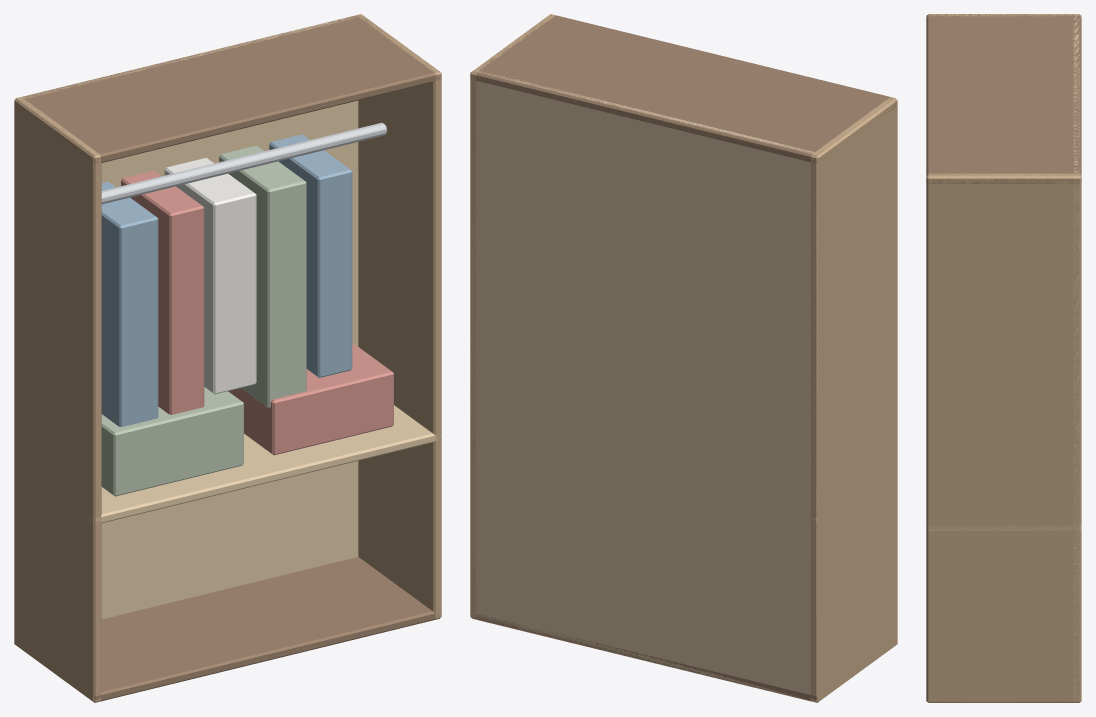
Rendered from Rail_2x3.glb.
3 views of the same model, side by side, from view 1: azimuth 30°, elevation 25°; view 2: azimuth 150°, elevation 25°; view 3: azimuth 270°, elevation 25° (orthographic). The views are drawn at different scales.
Visible parts, largest first — view 1: SpaceSaver_WallSys_Rail_2x3; view 2: SpaceSaver_WallSys_Rail_2x3; view 3: SpaceSaver_WallSys_Rail_2x3.
Part boxes in pixels (x1,y1,x2,y2): SpaceSaver_WallSys_Rail_2x3: (14, 14, 441, 702); SpaceSaver_WallSys_Rail_2x3: (470, 14, 897, 702); SpaceSaver_WallSys_Rail_2x3: (926, 14, 1081, 702).
Bounding box in the file's own units: 0.8 × 1.2 × 0.32.
